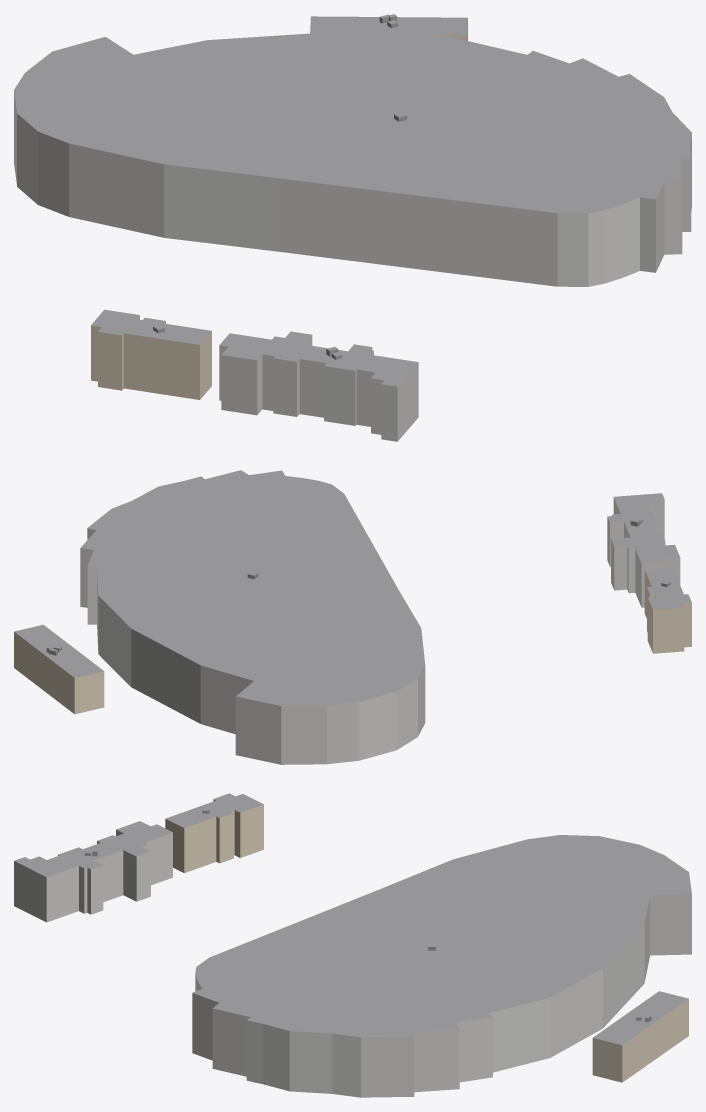
Rendered from building_0_2.glb.
3 views of the same model, one above another, from view 1: azimuth 30°, elevation 25°; view 2: azimuth 150°, elevation 25°; view 3: azimuth 270°, elevation 25° (orthographic). The views are drawn at different scales.
Parts seen in each view (by area): view 1: roof, concrete_light, sandstone; view 2: roof, concrete_light, sandstone; view 3: roof, concrete_light, sandstone.
Part boxes in pixels (x1=…): roof: x1=14, y1=14, x2=691, y2=386; concrete_light: x1=14, y1=91, x2=691, y2=441; sandstone: x1=91, y1=19, x2=467, y2=399; roof: x1=14, y1=470, x2=691, y2=705; concrete_light: x1=80, y1=498, x2=680, y2=764; sandstone: x1=14, y1=570, x2=691, y2=714; roof: x1=14, y1=793, x2=691, y2=1045; concrete_light: x1=14, y1=829, x2=691, y2=1097; sandstone: x1=165, y1=799, x2=688, y2=1082.
Bounding box in the file's own units: 184 × 21.2 × 204.
